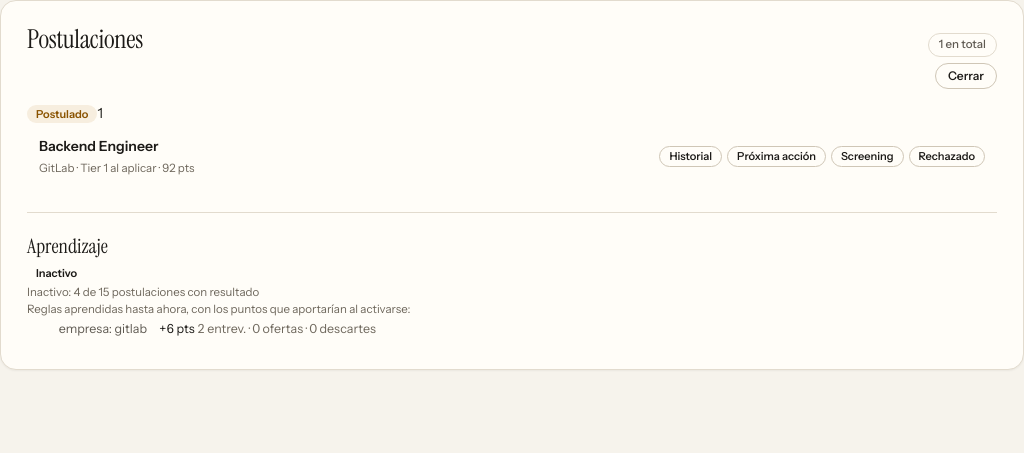
Test case: Pipeline — aprendizaje e historial › error de red en el historial muestra un mensaje, sin crash
Click the button "Historial" at (691, 157), box [659,146,722,167]
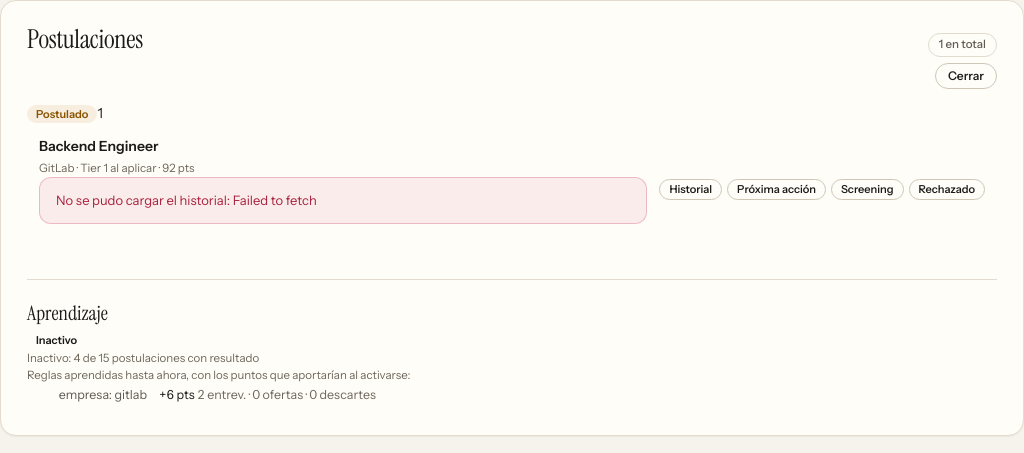
Now the text "No se pudo cargar el historial: Failed to fetch" is shown, box [39,177,647,224]
